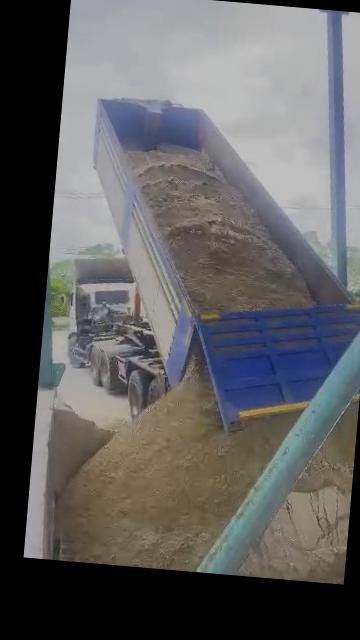sand: (57, 353, 295, 571), (130, 145, 312, 311), (246, 409, 357, 582), (50, 401, 113, 495)
